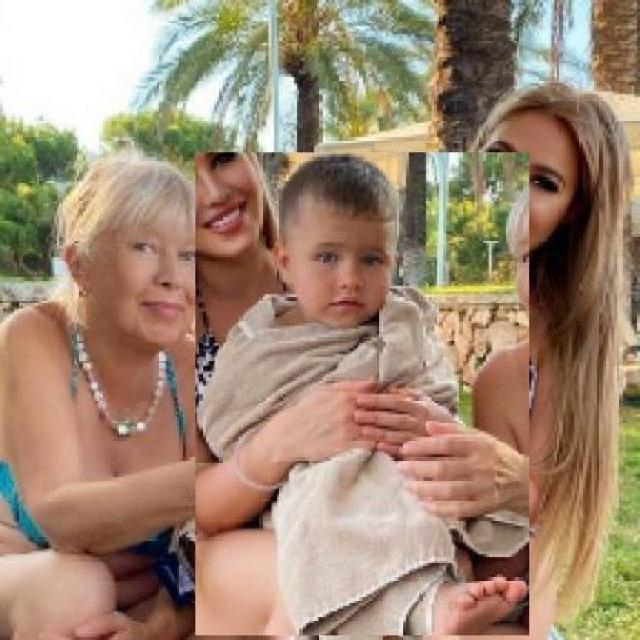child: (194, 152, 529, 637)
